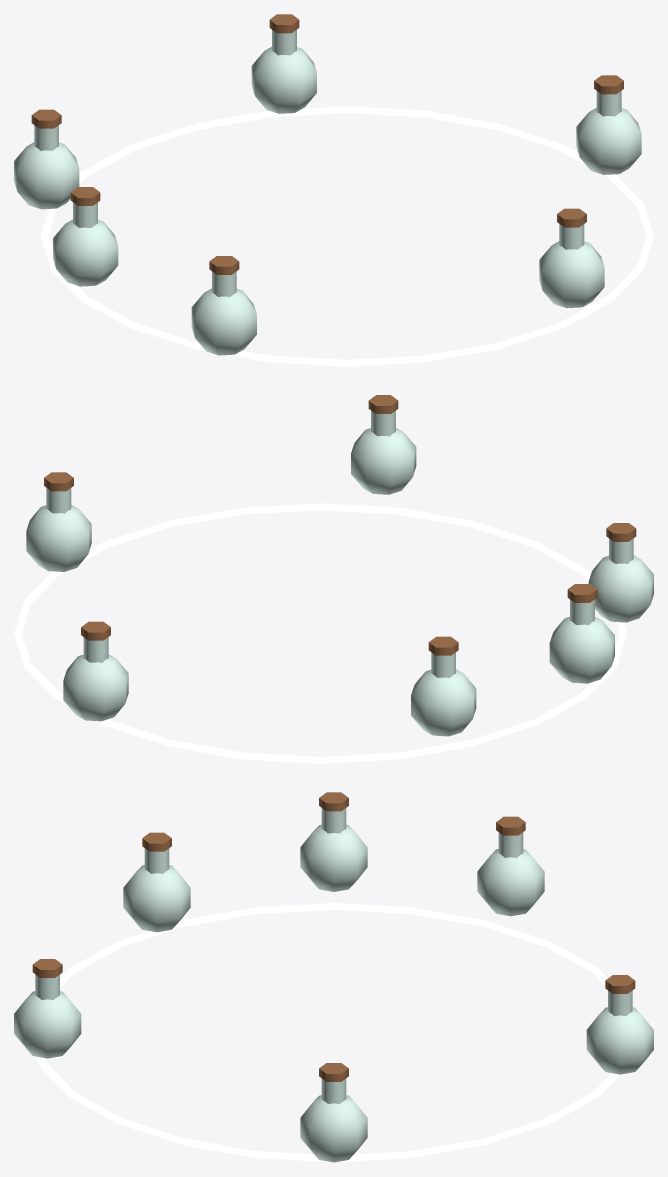
Rendered from midori_p2.glb.
3 renders of one model, top to bottom at view 1: azimuth 30°, elevation 25°; view 2: azimuth 150°, elevation 25°; view 3: azimuth 270°, elevation 25°, orthographic.
Parts seen in each view (by area): view 1: p2_bottles5_body, p2_bottles_glow, p2_bottles_body; view 2: p2_bottles5_body, p2_bottles_glow, p2_bottles_body; view 3: p2_bottles5_body, p2_bottles_body, p2_bottles_glow.
Part boxes in pixels (box(x1,y1,x2,y2)): p2_bottles5_body: box(14, 14, 604, 355); p2_bottles_glow: box(40, 106, 653, 366); p2_bottles_body: box(53, 75, 641, 286); p2_bottles5_body: box(63, 395, 653, 736); p2_bottles_glow: box(14, 503, 627, 763); p2_bottles_body: box(26, 472, 614, 683); p2_bottles5_body: box(14, 816, 653, 1074); p2_bottles_body: box(300, 792, 367, 1162); p2_bottles_glow: box(36, 903, 619, 1162).
Bounding box in the file's own units: 0.7561 × 0.1383 × 0.7228.
